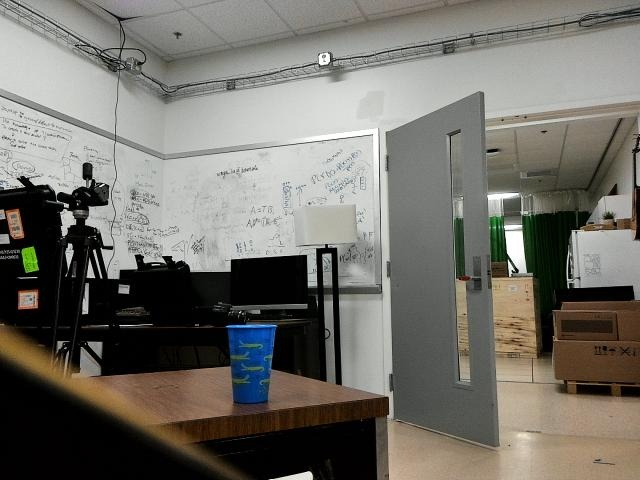water_cup: (220, 321, 283, 408)
